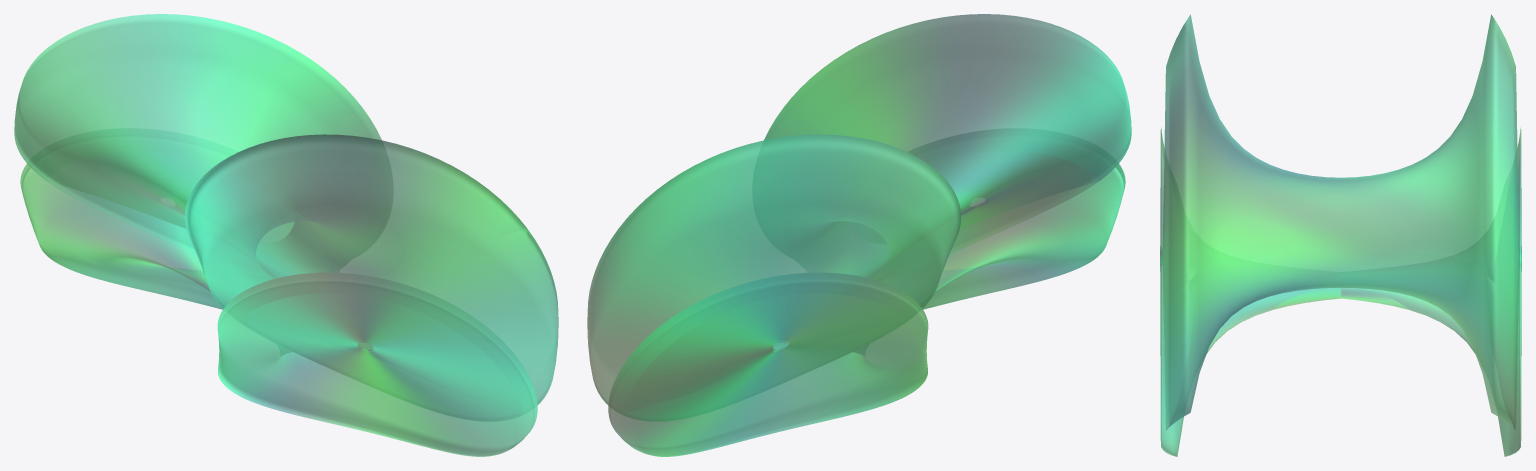
File: metric_tensor_riemann.glb
The picture shows the model from 3 angles, left to right: view 1: azimuth 30°, elevation 25°; view 2: azimuth 150°, elevation 25°; view 3: azimuth 270°, elevation 25°; orthographic projection. The views are drawn at different scales.
Visible parts, largest first — view 1: MathShape_0; view 2: MathShape_0; view 3: MathShape_0.
Boxes of the visible parts, x1,y1,x2,y2 form: MathShape_0: (14, 14, 558, 456); MathShape_0: (587, 14, 1131, 456); MathShape_0: (1160, 14, 1521, 456).
Bounding box in the file's own units: 9.38 × 8.69 × 8.62.
1 material, 1 textured.
